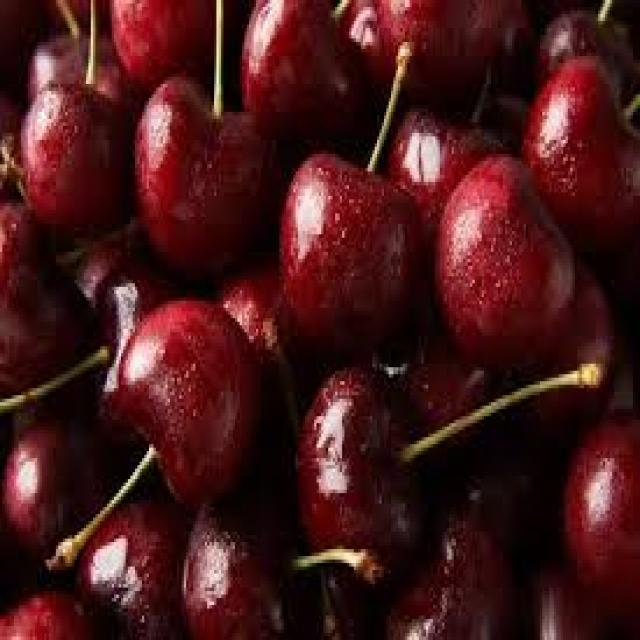biodegradable: (112, 297, 270, 507), (275, 144, 424, 361), (431, 147, 573, 371), (387, 458, 557, 637), (289, 364, 428, 577), (131, 74, 273, 270), (524, 56, 638, 252), (235, 0, 379, 154), (0, 189, 102, 399), (0, 409, 119, 574), (556, 406, 638, 619), (16, 66, 128, 210), (367, 0, 537, 94), (177, 507, 293, 637), (396, 91, 517, 213), (77, 500, 181, 637), (396, 329, 505, 458), (72, 214, 186, 319), (531, 262, 610, 406), (109, 0, 237, 80), (521, 560, 617, 637), (219, 263, 289, 361), (23, 31, 135, 91), (0, 588, 105, 637), (0, 91, 19, 178)
